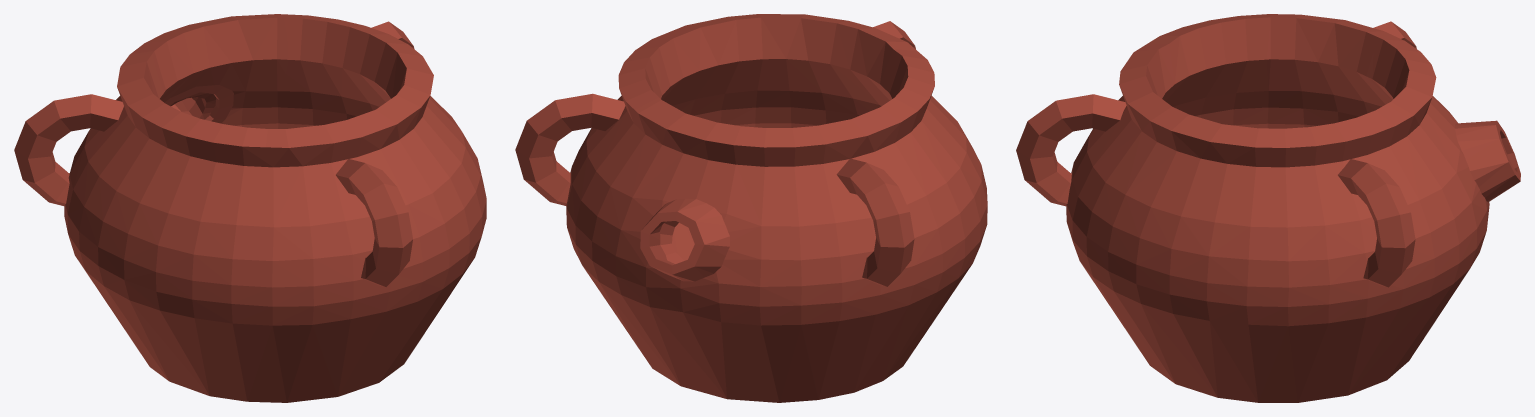
File: Pottery 3_3.fbx
The picture shows the model from 3 angles, left to right: view 1: azimuth 30°, elevation 25°; view 2: azimuth 150°, elevation 25°; view 3: azimuth 270°, elevation 25°; orthographic projection.
Parts seen in each view (by area): view 1: Pottery 3_3; view 2: Pottery 3_3; view 3: Pottery 3_3.
Part boxes in pixels (x1,y1,x2,y2): Pottery 3_3: [14, 14, 486, 402]; Pottery 3_3: [515, 14, 987, 402]; Pottery 3_3: [1016, 14, 1520, 402].
Bounding box in the file's own units: 80.26 × 53.39 × 89.42.
